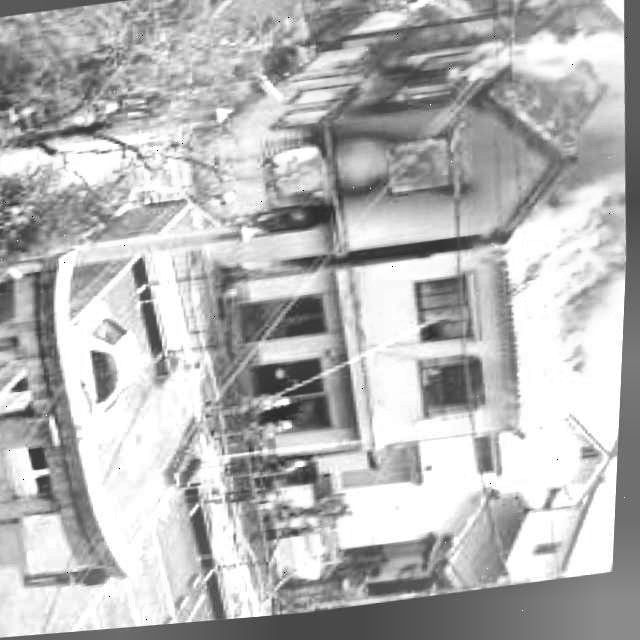Fire: (202, 37, 518, 300), (409, 283, 478, 434)
Smoke: (496, 52, 637, 445)
